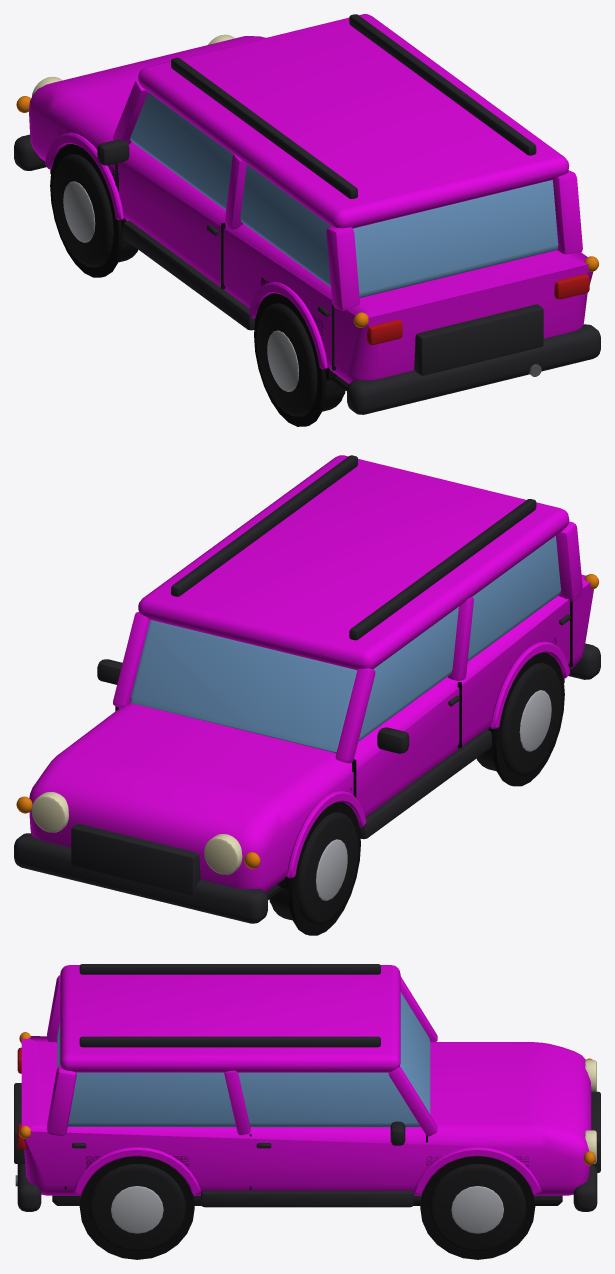
The model's file is MesaTrailhound.fbx.
The picture shows the model from 3 angles, top to bottom: view 1: azimuth 30°, elevation 25°; view 2: azimuth 150°, elevation 25°; view 3: azimuth 270°, elevation 25°; orthographic projection. The views are drawn at different scales.
Visible parts, largest first — view 1: MesaTrailhound; view 2: MesaTrailhound; view 3: MesaTrailhound.
Part boxes in pixels (x1=…): MesaTrailhound: x1=14, y1=14, x2=600, y2=426; MesaTrailhound: x1=14, y1=455, x2=600, y2=935; MesaTrailhound: x1=14, y1=964, x2=600, y2=1259.
Size of the model in its own units: 2.44 by 1.9 by 4.83.
